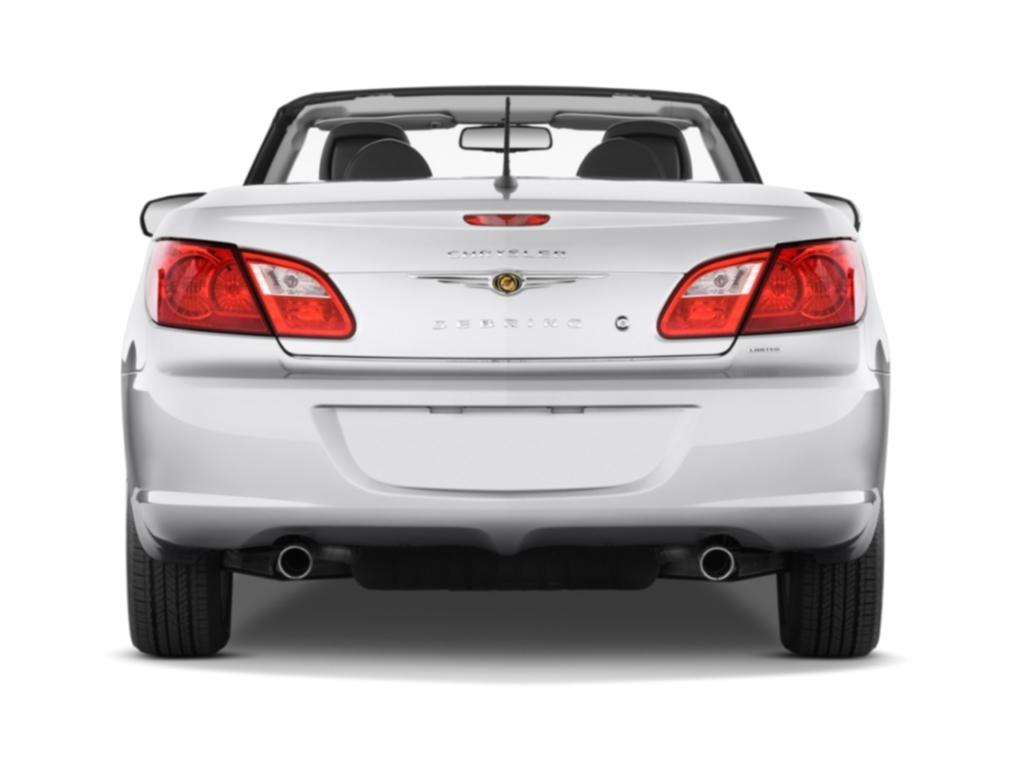Chrysler: (389, 264, 622, 300)
